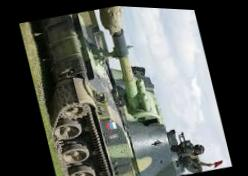sau: (23, 1, 204, 176)
